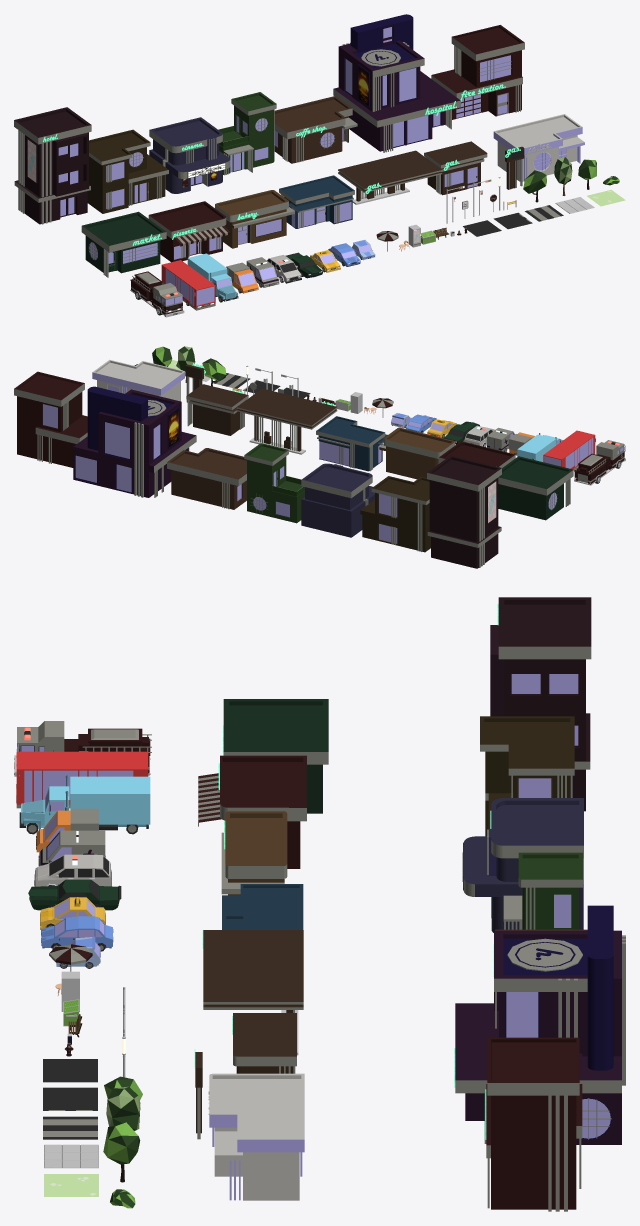
The model's file is cyberpunk.glb.
The picture shows the model from 3 angles, top to bottom: view 1: azimuth 30°, elevation 25°; view 2: azimuth 150°, elevation 25°; view 3: azimuth 270°, elevation 25°; orthographic projection. The views are drawn at different scales.
Visible parts, largest first — view 1: hospital, hotel, fire_station, yellow_house, cinema, coffe_shop, market, police_station, green_house, pizzeria, bakery, gas_station (+14 smaller); view 2: hospital, hotel, fire_station, cinema, yellow_house, coffe_shop, market, green_house, gas_station, blue_house, police_station, bakery (+15 smaller); view 3: hospital, fire_station, hotel, police_station, cinema, gas_station, yellow_house, market, pizzeria, green_house, truck, bakery (+17 smaller).
Boxes of the visible parts, <box> form: hospital: <box>333,14,460,152</box>; hotel: <box>14,107,91,224</box>; fire_station: <box>431,25,524,119</box>; yellow_house: <box>87,129,168,213</box>; cinema: <box>149,117,230,193</box>; coffe_shop: <box>274,96,357,163</box>; market: <box>81,211,166,277</box>; police_station: <box>493,114,584,181</box>; green_house: <box>218,92,276,175</box>; pizzeria: <box>148,201,230,262</box>; bakery: <box>215,190,294,248</box>; gas_station: <box>338,150,442,204</box>; hospital: <box>73,386,196,497</box>; hotel: <box>427,455,501,568</box>; fire_station: <box>14,371,87,467</box>; cinema: <box>301,463,374,537</box>; yellow_house: <box>360,476,430,552</box>; coffe_shop: <box>167,448,247,509</box>; market: <box>498,456,573,520</box>; green_house: <box>244,443,304,523</box>; gas_station: <box>236,388,337,454</box>; blue_house: <box>316,416,387,471</box>; police_station: <box>92,359,184,401</box>; bakery: <box>379,427,455,479</box>; hospital: <box>454,905,625,1144</box>; fire_station: <box>485,1037,582,1211</box>; hotel: <box>490,597,591,811</box>; police_station: <box>208,1073,304,1200</box>; cinema: <box>462,798,583,932</box>; gas_station: <box>202,930,303,1055</box>; yellow_house: <box>480,716,574,836</box>; market: <box>223,699,328,813</box>; pizzeria: <box>198,755,306,868</box>; green_house: <box>503,852,582,929</box>; truck: <box>19,775,150,834</box>; bakery: <box>221,811,287,895</box>.
Bounding box in the file's own units: 57.6 × 10.56 × 33.23.
Materials: 56 (1 with a texture image).
